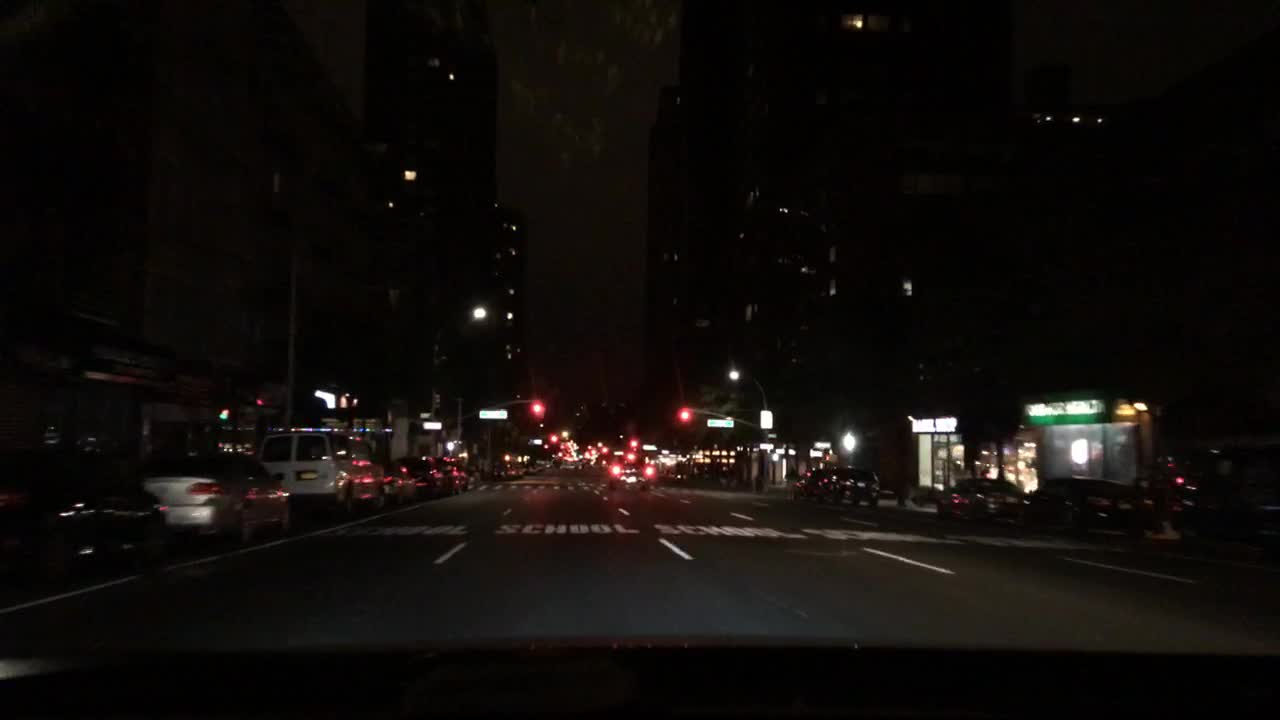car: (0, 457, 166, 574), (141, 447, 292, 546), (258, 429, 387, 514), (1160, 453, 1279, 543), (1022, 473, 1155, 535), (934, 475, 1023, 523), (817, 464, 880, 506), (397, 455, 448, 499), (605, 453, 656, 491), (384, 463, 417, 505), (435, 455, 470, 493), (789, 467, 818, 499), (498, 462, 523, 480), (522, 463, 540, 476), (558, 460, 577, 471)
traffic light: (532, 402, 543, 414), (680, 410, 691, 420), (629, 440, 637, 446), (550, 436, 558, 441)
traffic sign: (760, 410, 772, 429), (478, 410, 506, 418), (706, 418, 734, 426)
